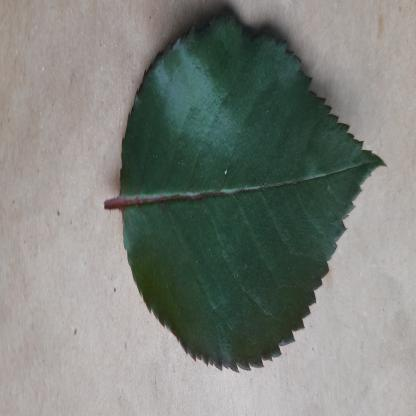normal: (121, 19, 386, 379)
